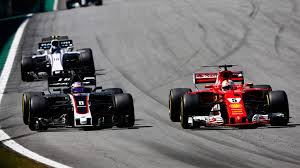FormulaOneCar: (164, 60, 294, 132), (22, 71, 139, 133), (20, 34, 98, 79)
